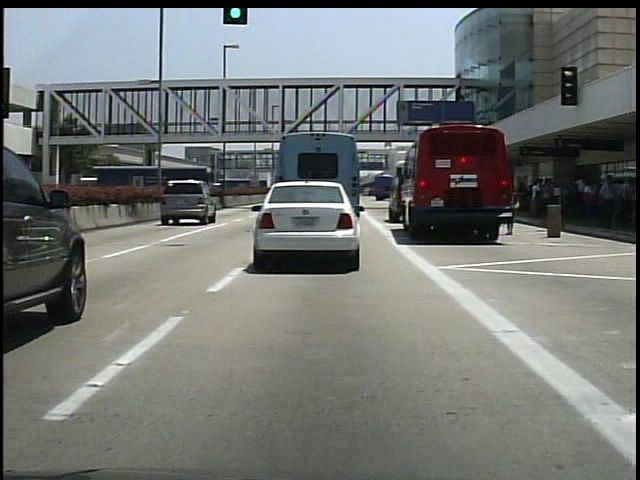person: (504, 186, 517, 236)
